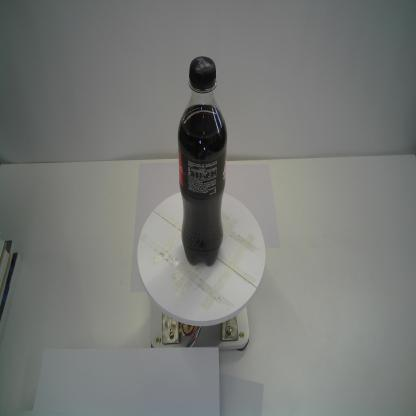Drink: (176, 54, 228, 271)
